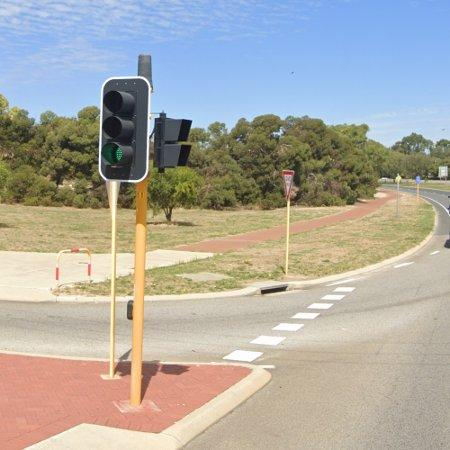traffic lights: (99, 76, 150, 183), (154, 113, 192, 170)
